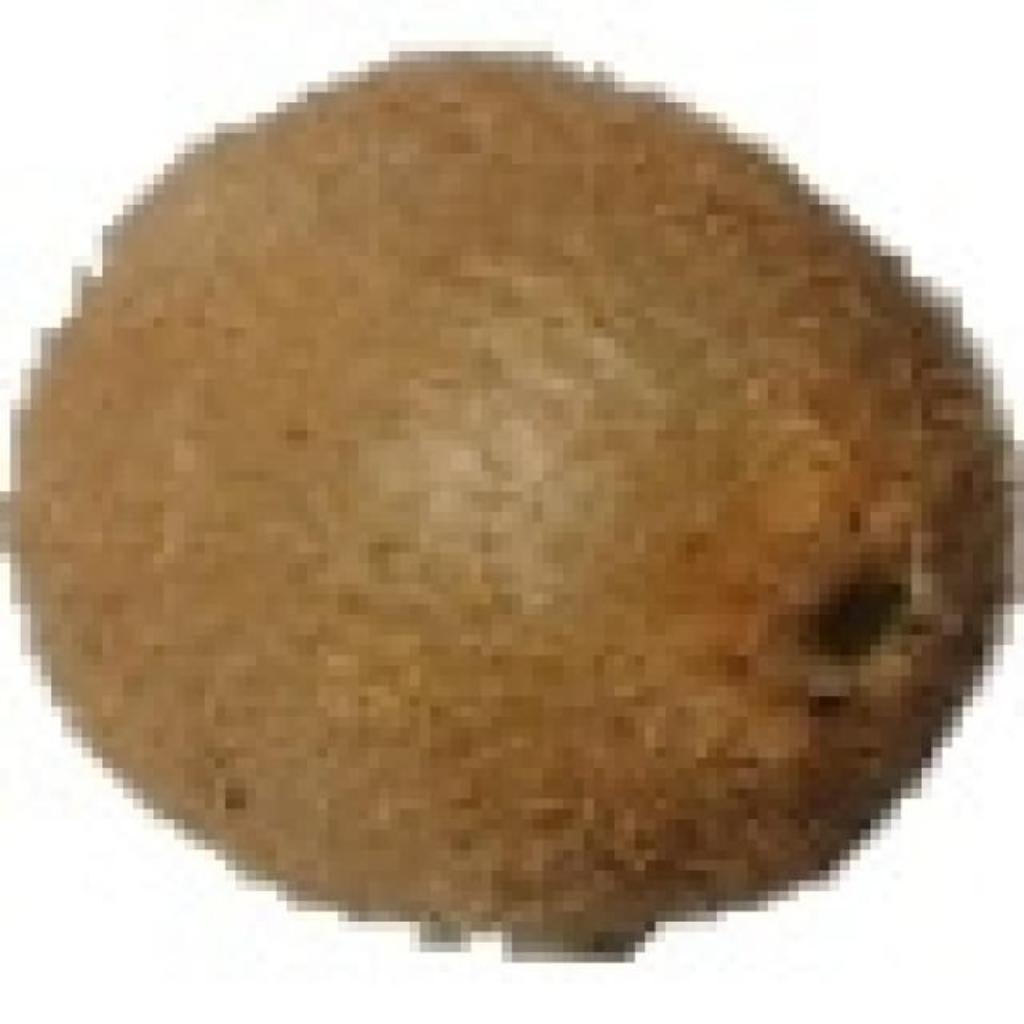kiwi: (10, 41, 983, 932)
